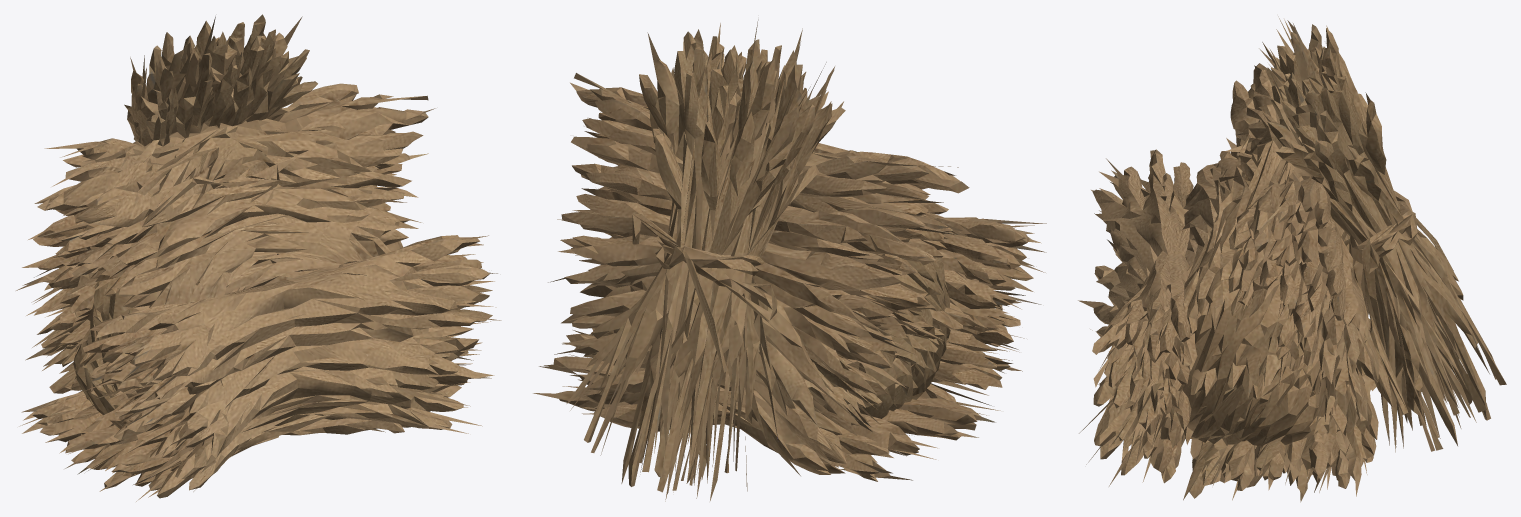
The model's file is wheat_sheaves.glb.
The picture shows the model from 3 angles, left to right: view 1: azimuth 30°, elevation 25°; view 2: azimuth 150°, elevation 25°; view 3: azimuth 270°, elevation 25°; orthographic projection. The views are drawn at different scales.
Size of the model in its own units: 1.76 by 1.77 by 1.65.
1 material, 1 textured.
